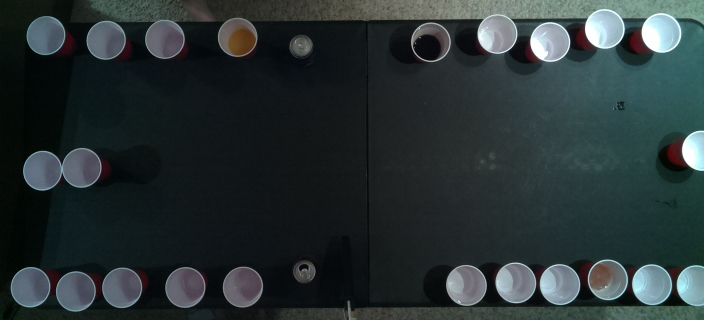active bp cup: (20, 150, 62, 192), (63, 146, 103, 190), (681, 129, 703, 172)
can: (288, 31, 313, 59), (291, 259, 318, 284)
drink cup: (586, 257, 629, 300), (408, 21, 452, 62), (216, 16, 258, 57)
inactive bp cup: (524, 21, 572, 63), (630, 261, 674, 305), (99, 265, 143, 309), (163, 265, 207, 308), (493, 262, 537, 305), (24, 14, 67, 57), (539, 260, 581, 304), (9, 264, 51, 308), (442, 265, 488, 305), (474, 13, 517, 55), (54, 270, 97, 312), (221, 266, 264, 308), (582, 8, 626, 49), (142, 19, 184, 61), (639, 12, 682, 53), (84, 21, 128, 61), (676, 262, 703, 307)
